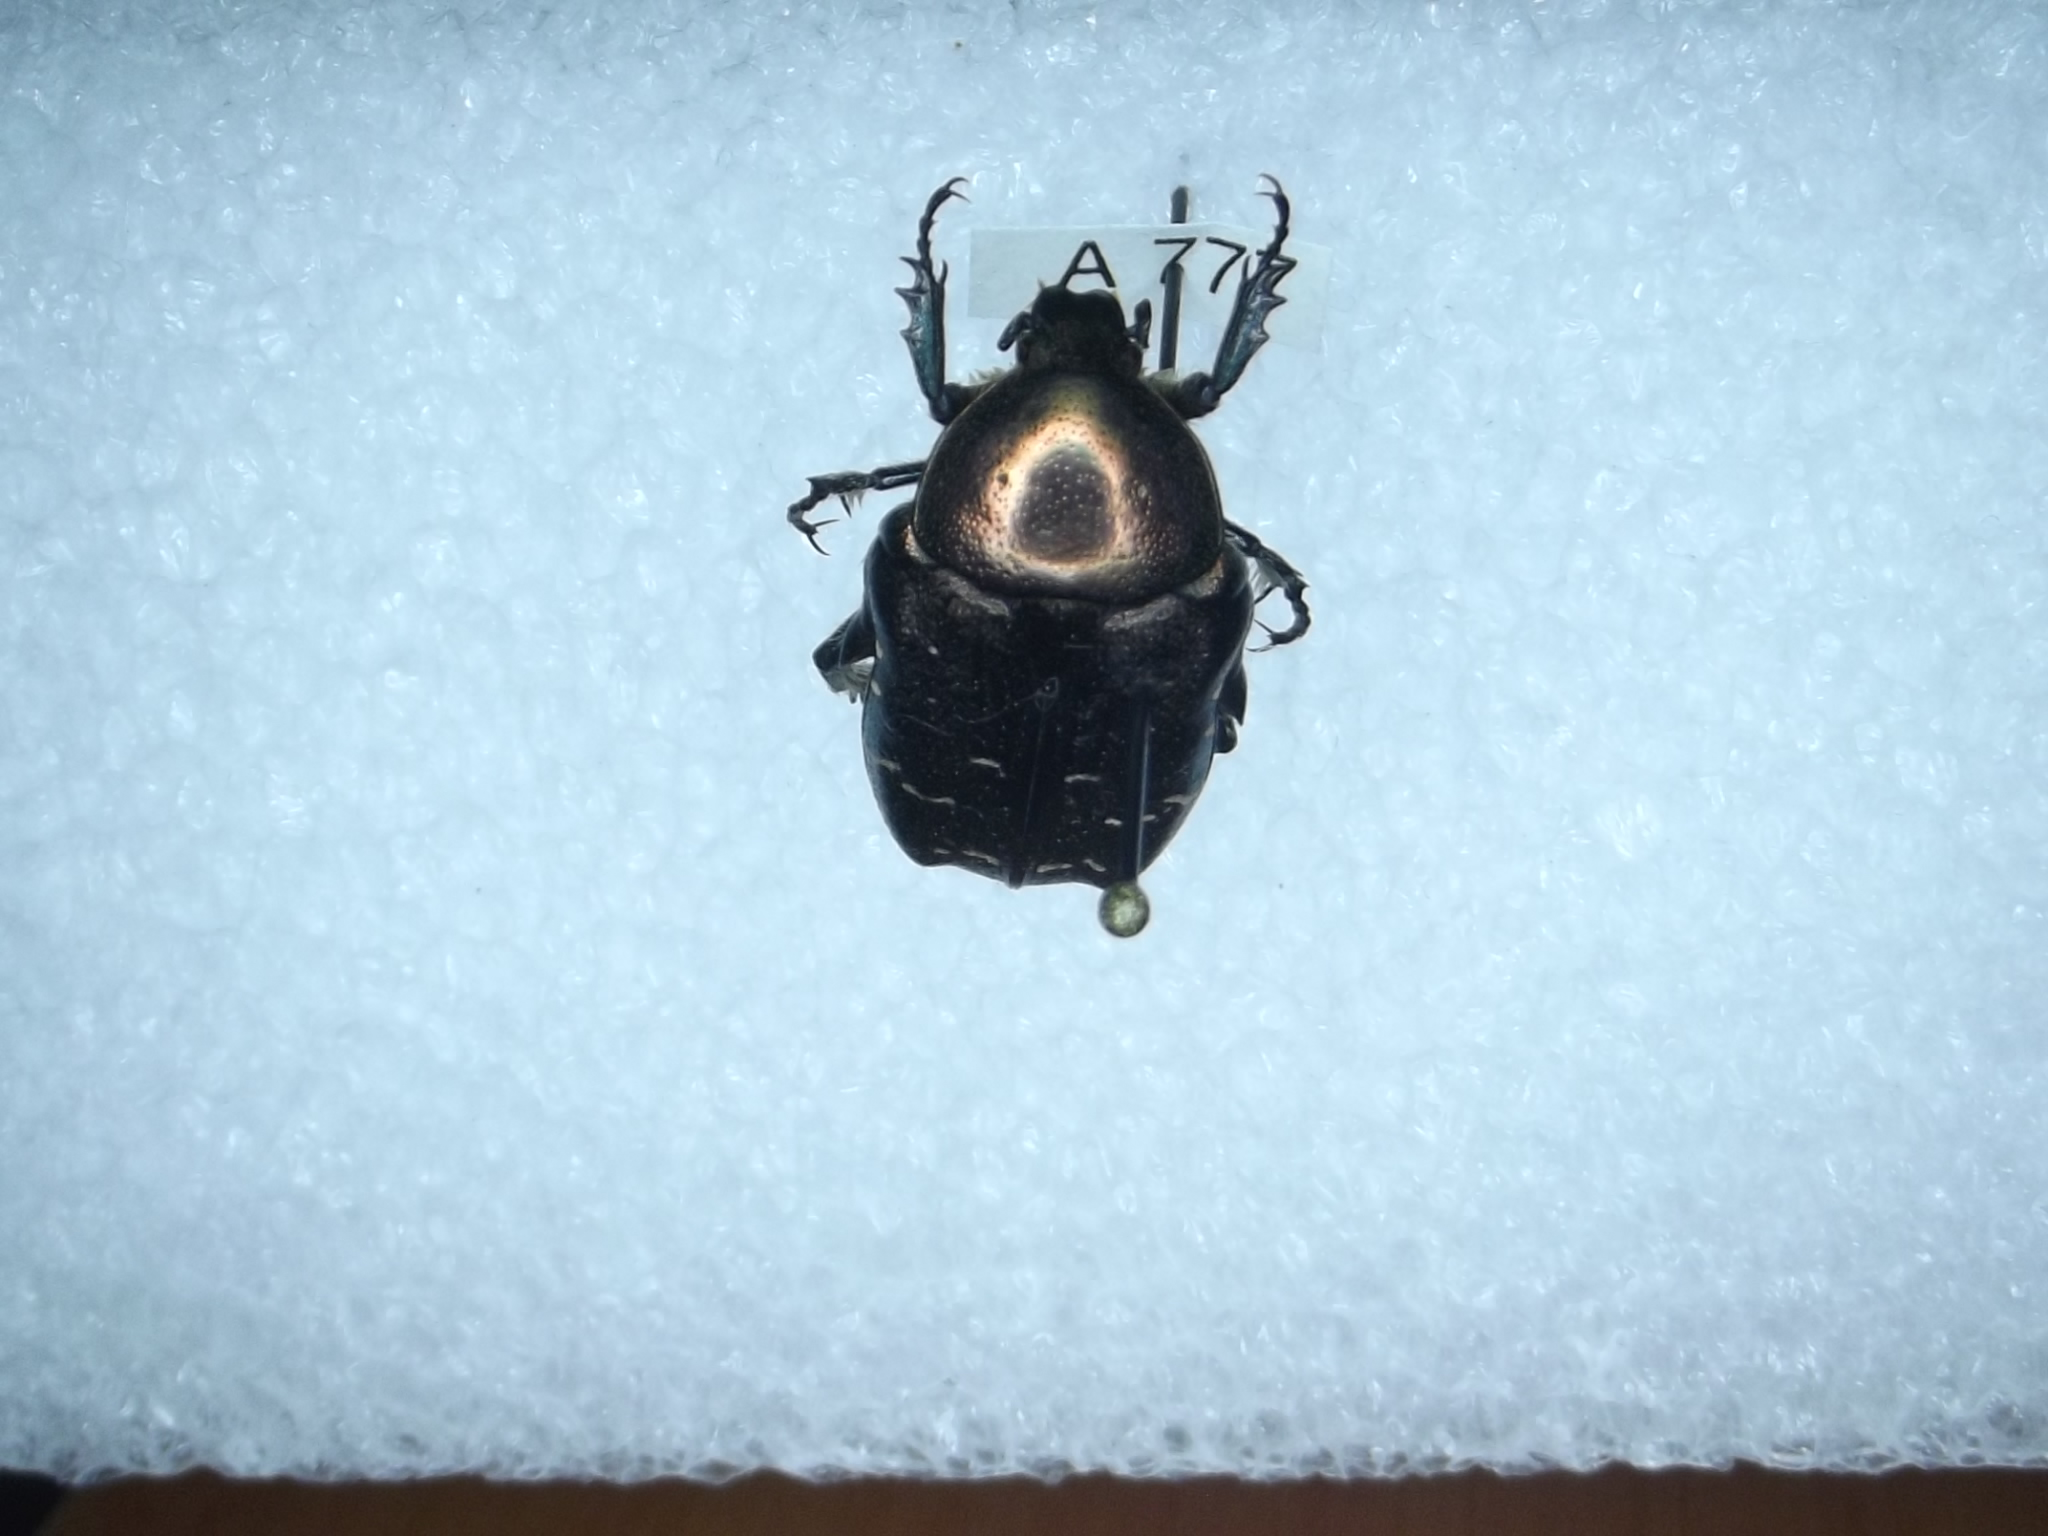Cetonia_aurata: (776, 137, 1345, 921)
